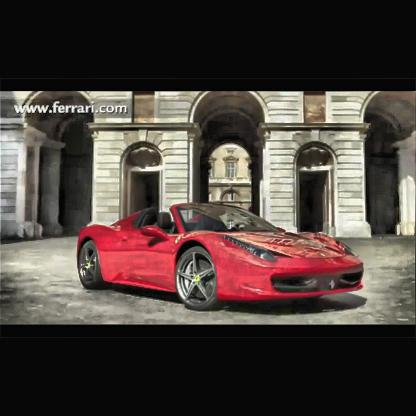Ferrari 458 Italia Convertible 2012: (79, 204, 366, 310)
